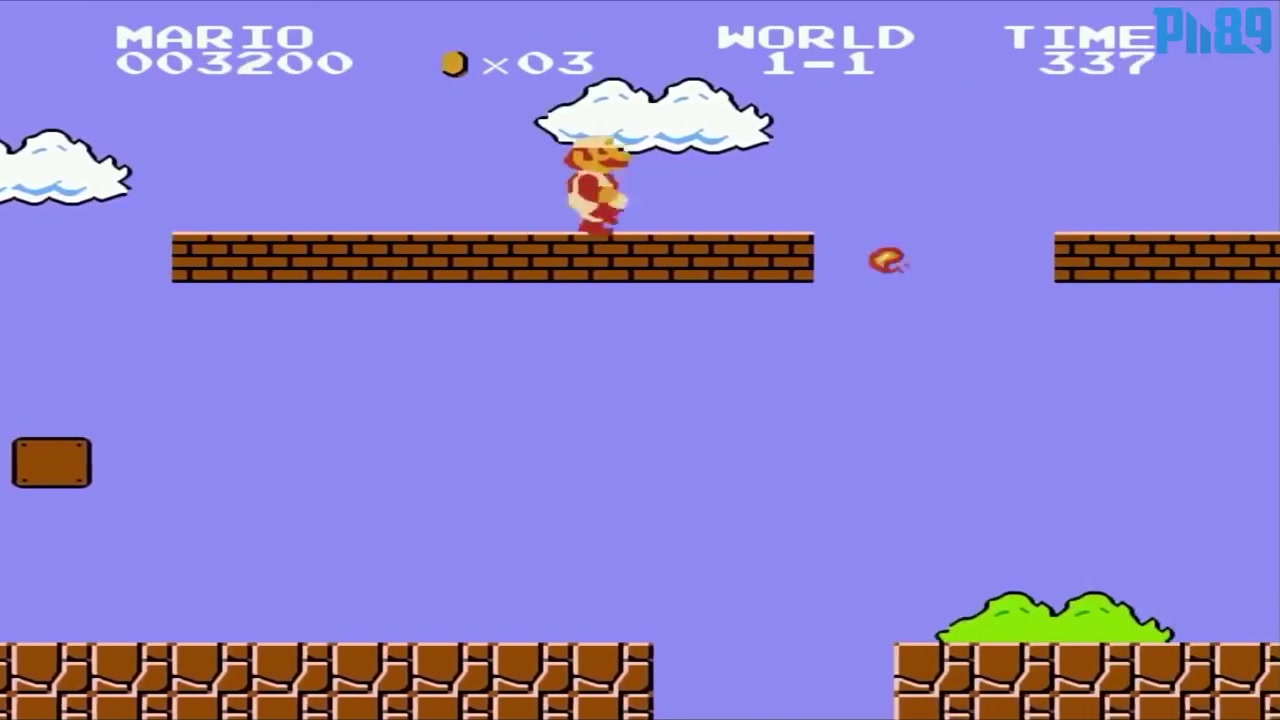mario: (550, 133, 632, 235)
